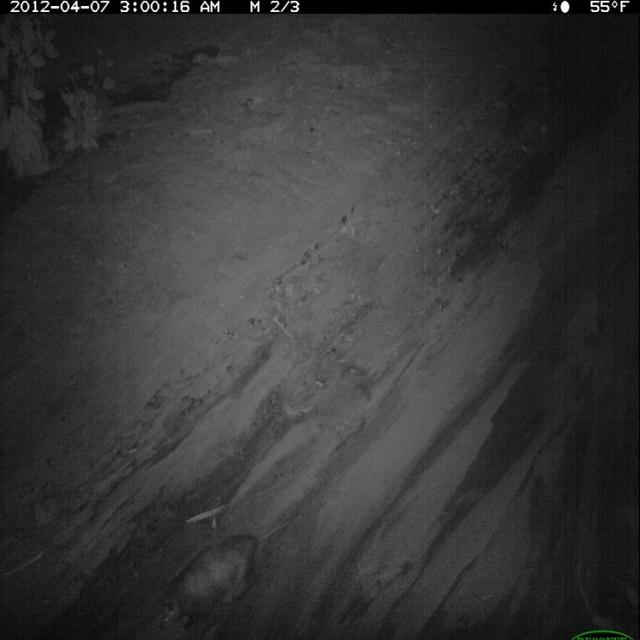opossum: (158, 513, 303, 640)
